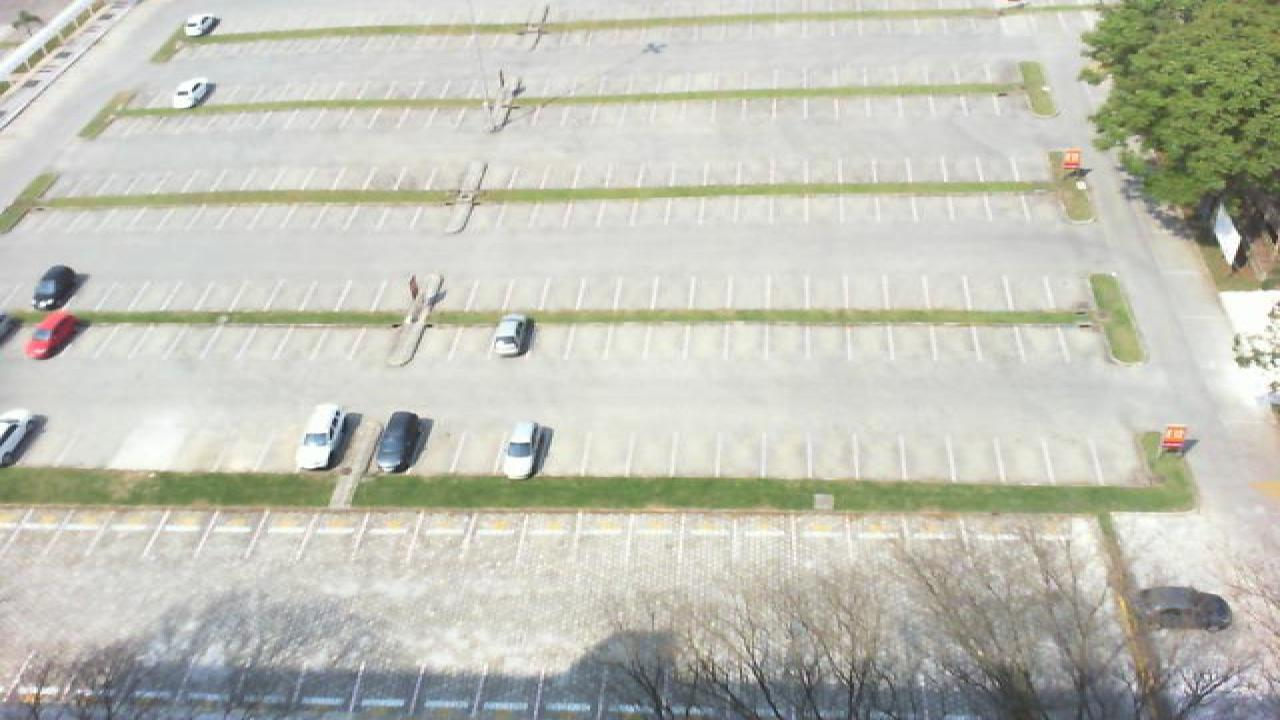Car: (1136, 585, 1230, 630), (296, 404, 352, 472), (374, 409, 426, 476), (500, 422, 550, 480), (26, 312, 80, 358), (0, 408, 42, 467), (30, 264, 76, 312), (492, 315, 532, 358), (172, 79, 212, 109), (182, 14, 218, 36)
